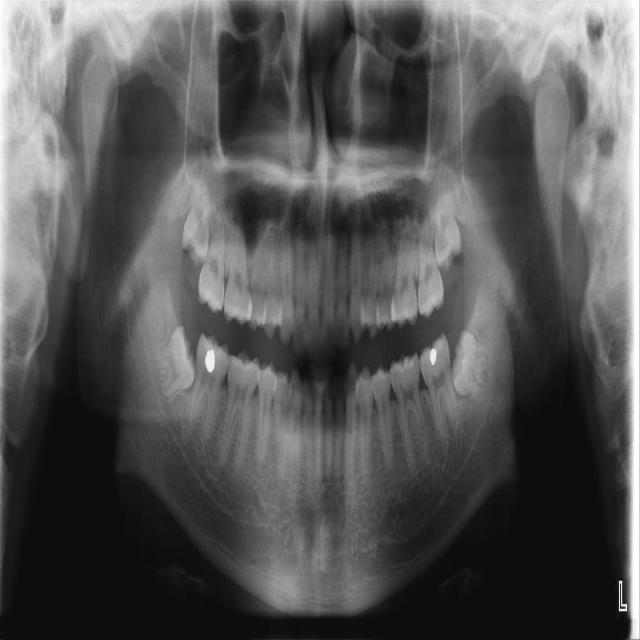Filling: (200, 343, 224, 377), (423, 344, 441, 367)
